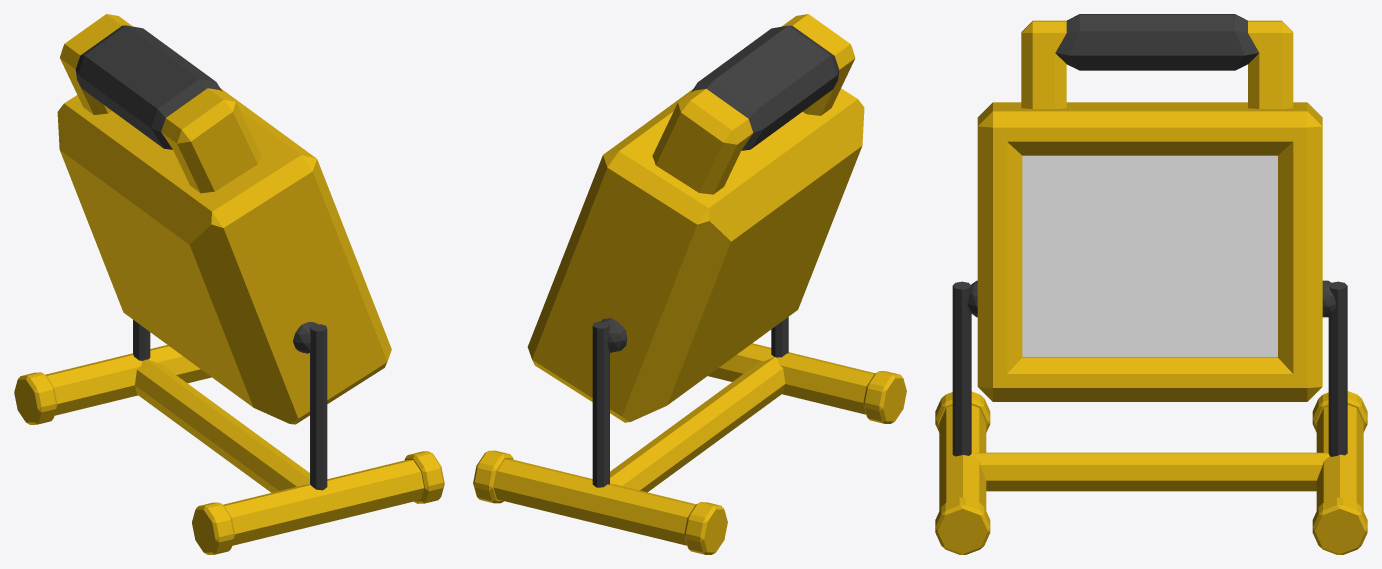
Rendered from Work Light A.glb.
3 renders of one model, left to right at view 1: azimuth 30°, elevation 25°; view 2: azimuth 150°, elevation 25°; view 3: azimuth 270°, elevation 25°, orthographic. The views are drawn at different scales.
Parts seen in each view (by area): view 1: Work Light A; view 2: Work Light A; view 3: Work Light A.
Part boxes in pixels (left/top/right/bottom): Work Light A: left=14, top=14, right=444, bottom=554; Work Light A: left=473, top=14, right=906, bottom=554; Work Light A: left=935, top=14, right=1367, bottom=554.
Bounding box in the file's own units: 50.78 × 89.47 × 78.06.
